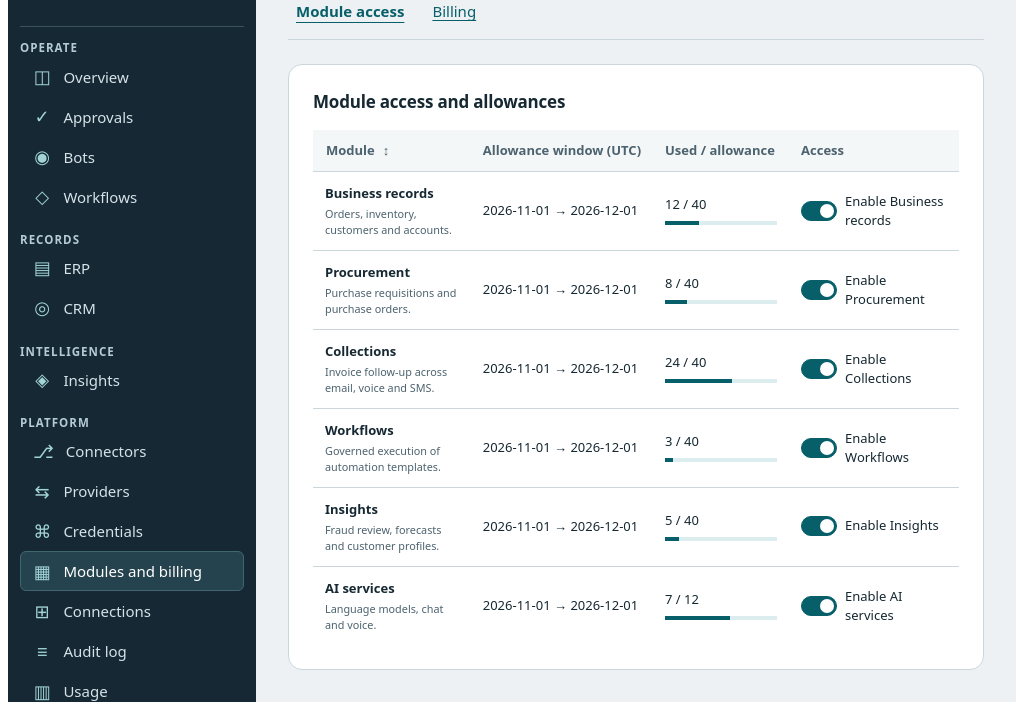
Test: platform app › updates module access and pages filtered audit results
This screenshot has width=1024, height=710.
Later steps or results of the test are not shown.
(page scrolled)
Click the switch labelled "Enable AI services" at (819, 606), box [801,596,837,616]
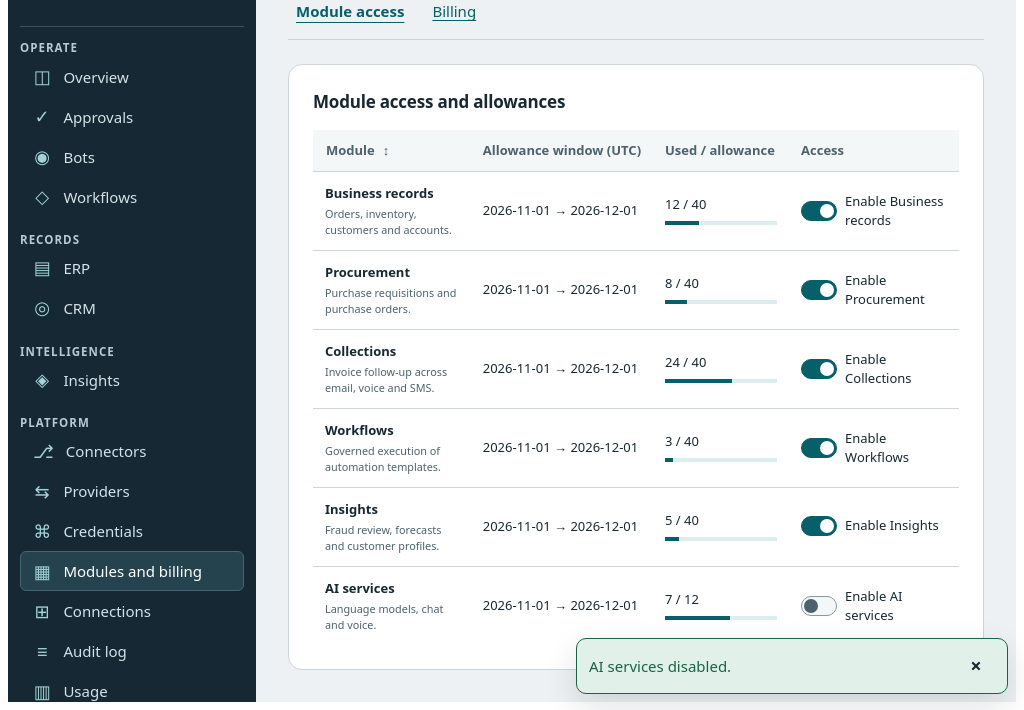
expect the switch labelled "Enable AI services" is not checked: met, box [801,596,837,616]
expect the text "AI services disabled." is shown: met, box [589,655,731,677]
